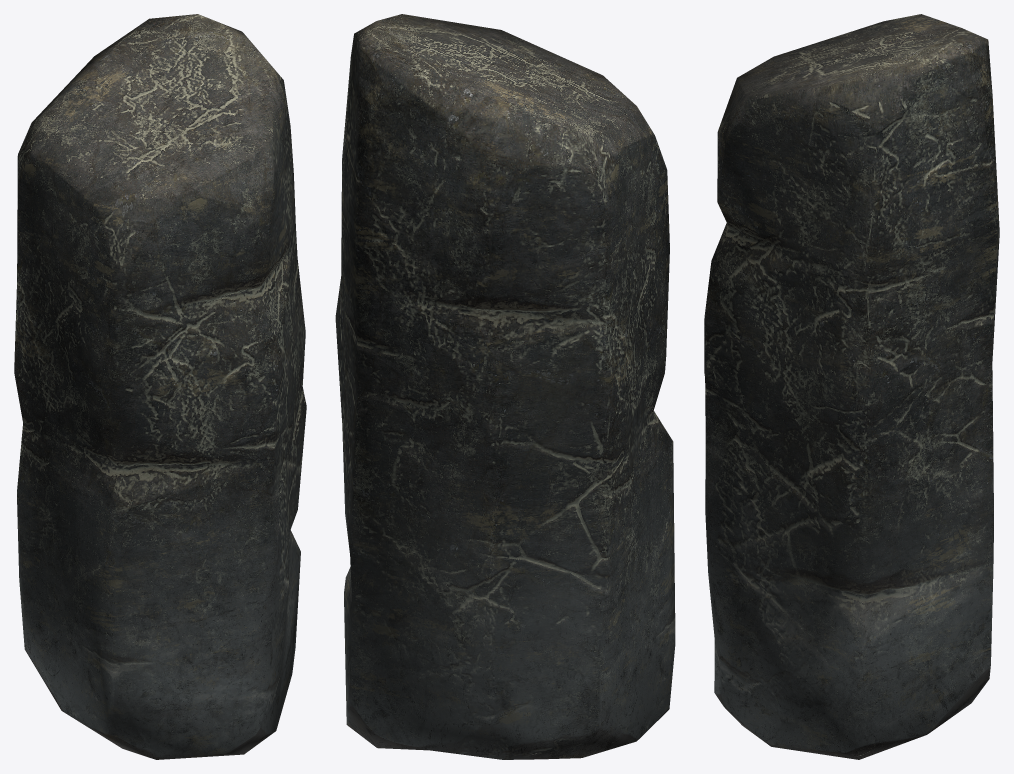
File: Rock_Pilar1.glb
3 views of the same model, side by side, from view 1: azimuth 30°, elevation 25°; view 2: azimuth 150°, elevation 25°; view 3: azimuth 270°, elevation 25° (orthographic). The views are drawn at different scales.
Parts seen in each view (by area): view 1: rock1__0; view 2: rock1__0; view 3: rock1__0.
Part boxes in pixels (box(x1,y1,x2,y2)): rock1__0: box(14, 14, 306, 759); rock1__0: box(335, 14, 675, 759); rock1__0: box(704, 14, 999, 759).
Bounding box in the file's own units: 1.65 × 3.89 × 1.48.
Materials: 1 (1 with a texture image).
